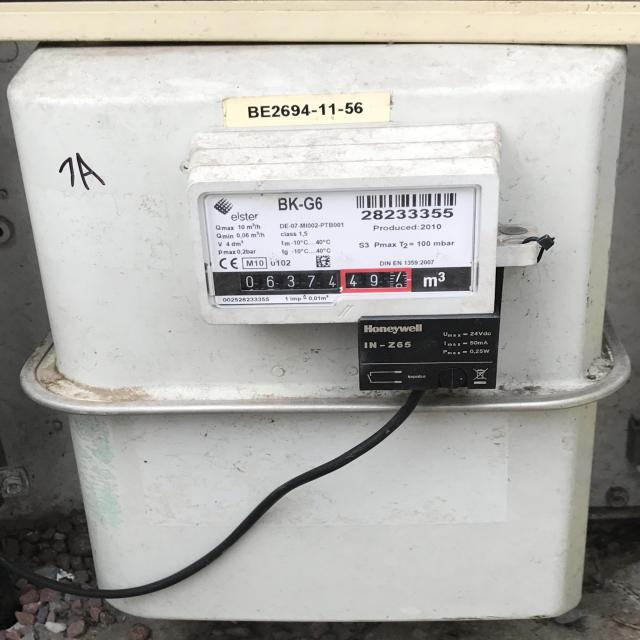gaz_meter: (197, 191, 479, 297)
indication: (235, 267, 411, 295)
